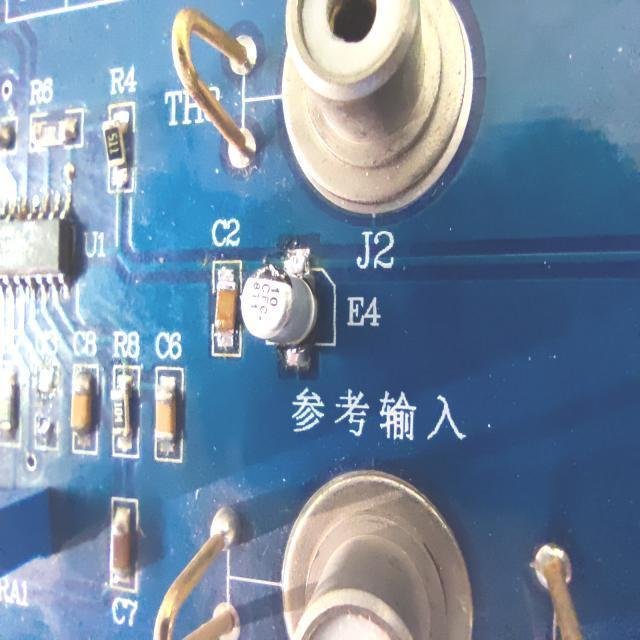Missing component: (31, 327, 66, 457)
